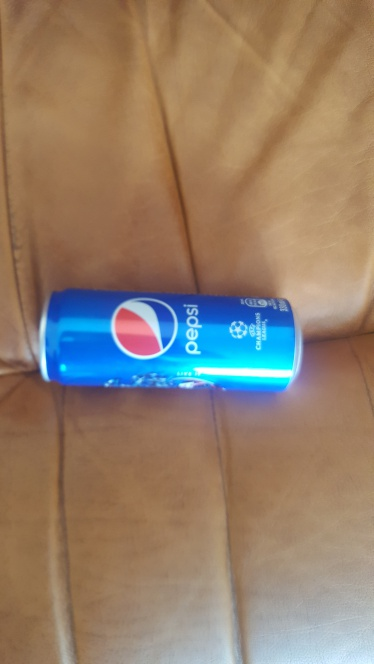pepsi: (25, 273, 317, 407)
